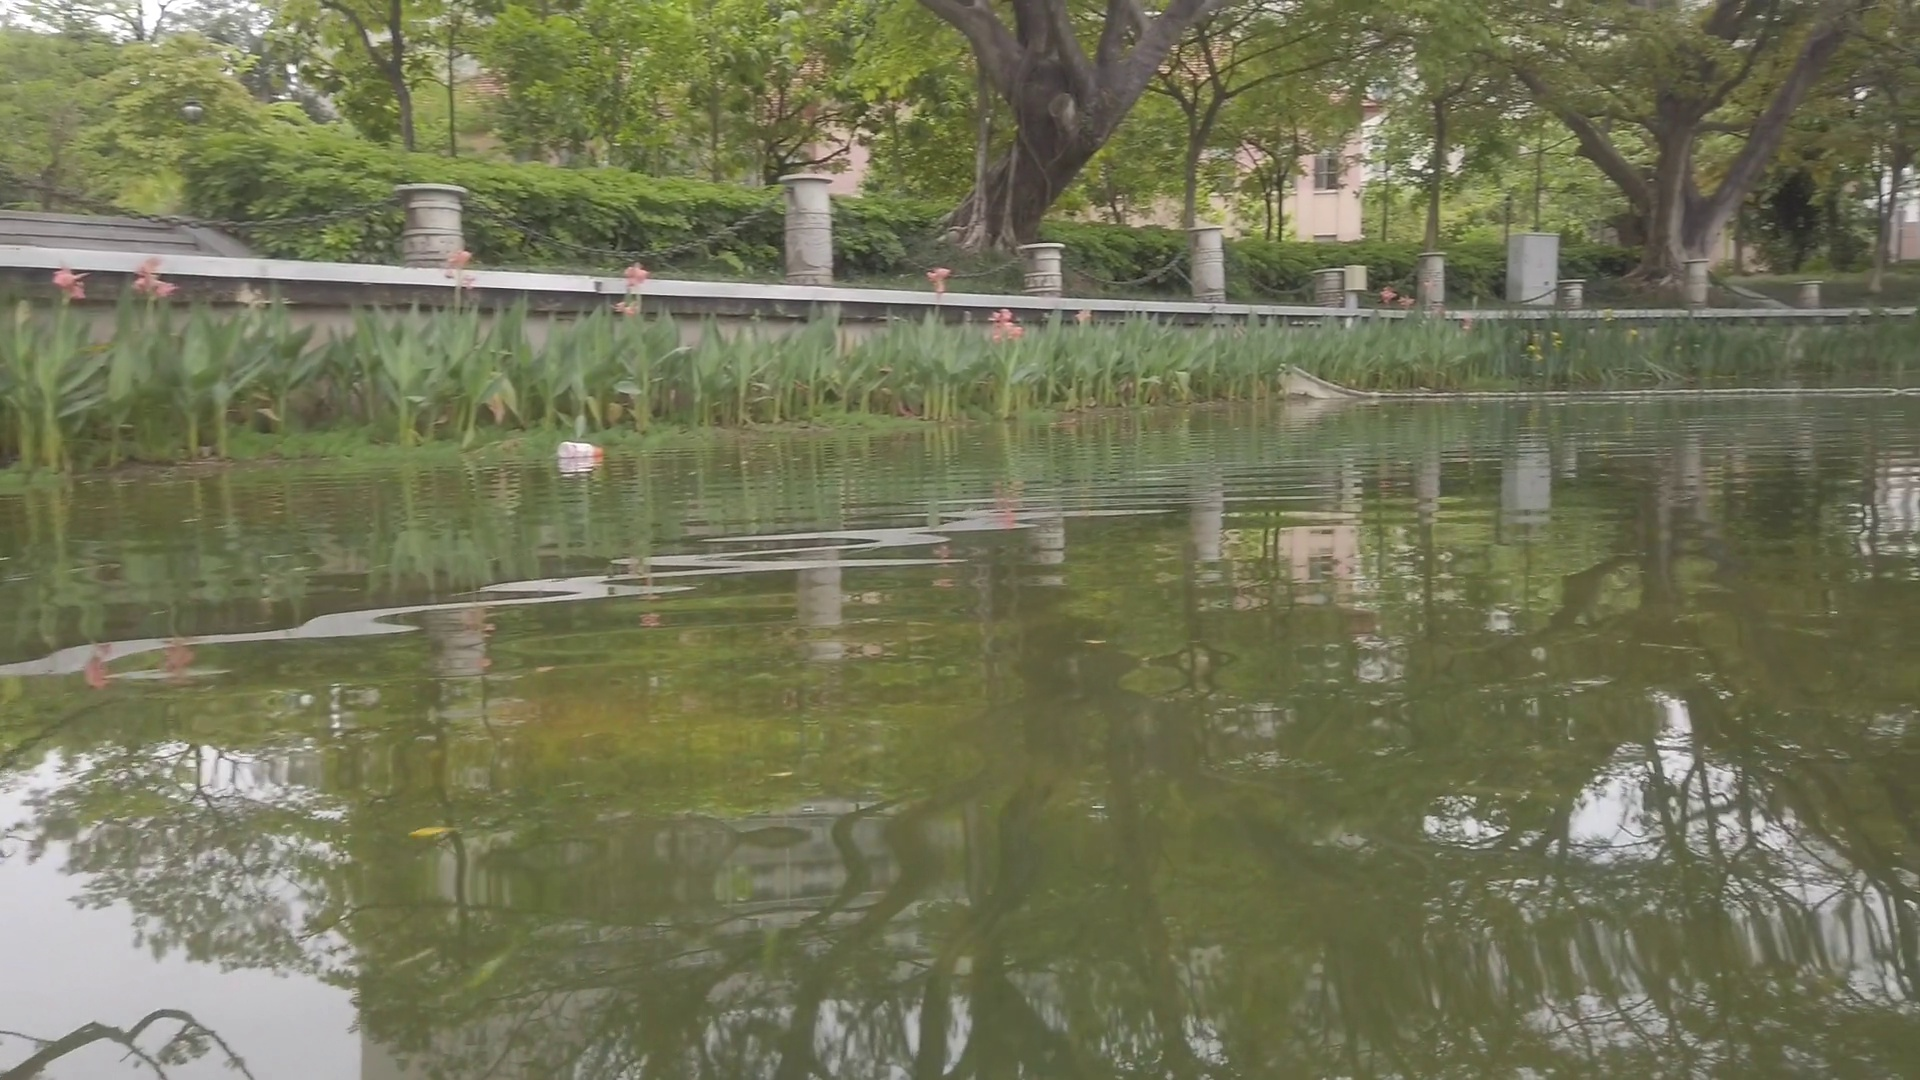bottle: (559, 442, 601, 458)
